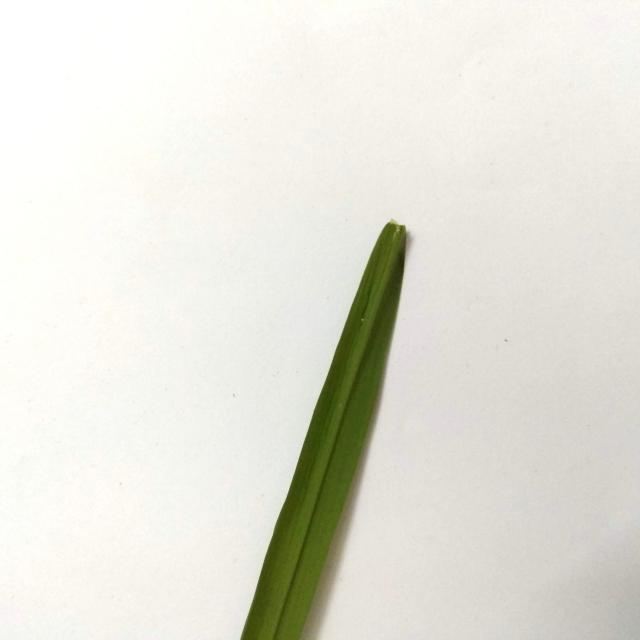Rice_Healthy: (242, 222, 406, 640)
